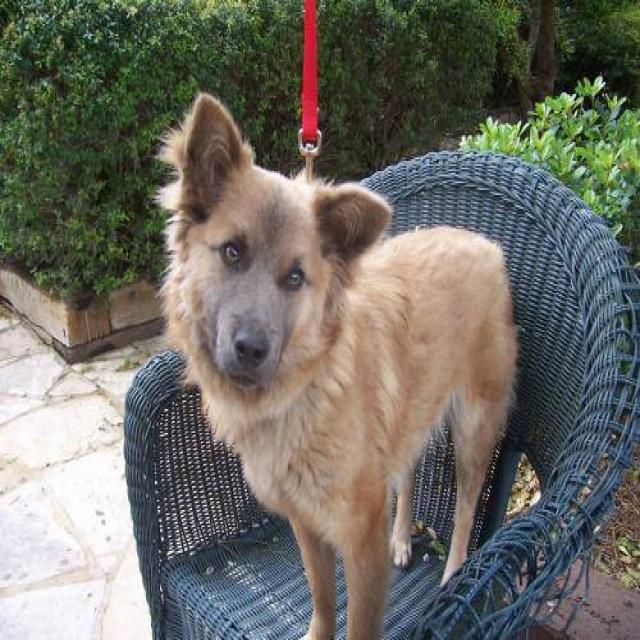Dog: (115, 79, 403, 424)
